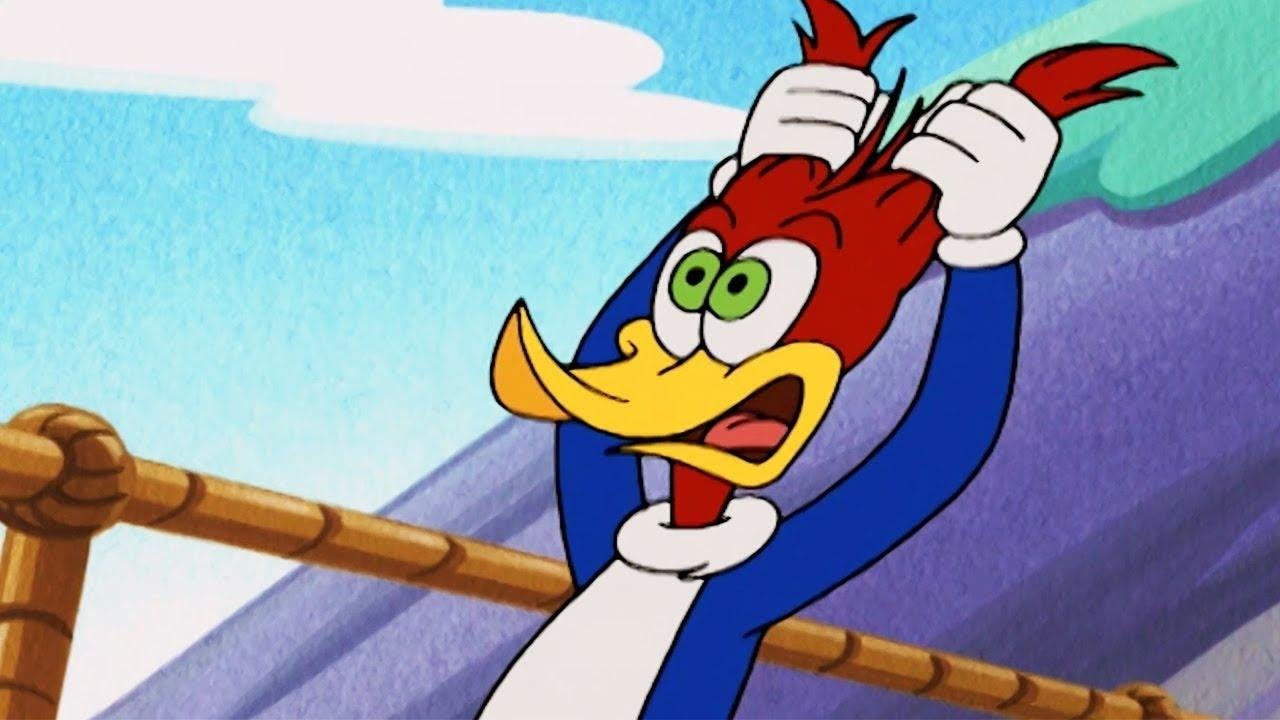picapau: (395, 15, 1158, 720)
